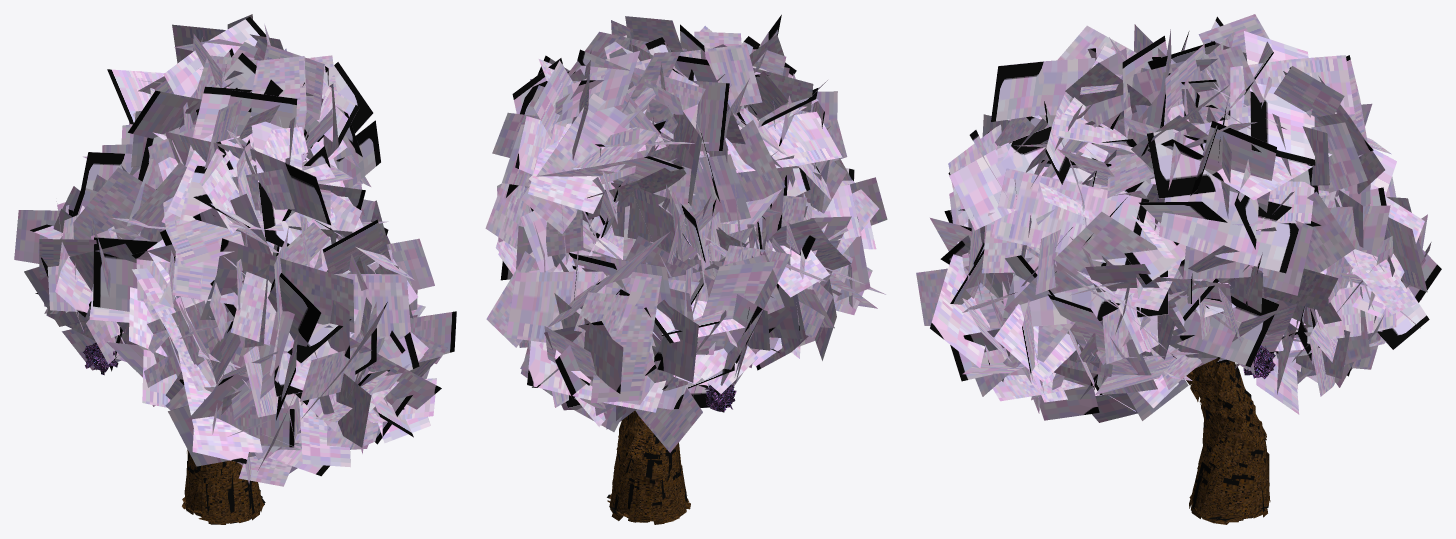
File: FBX-Tree1.fbx
The picture shows the model from 3 angles, left to right: view 1: azimuth 30°, elevation 25°; view 2: azimuth 150°, elevation 25°; view 3: azimuth 270°, elevation 25°; orthographic projection. The views are drawn at different scales.
Parts seen in each view (by area): view 1: TreeLeaves, TreeTrunk, Crystal_Small; view 2: TreeLeaves, TreeTrunk, Crystal_Small; view 3: TreeLeaves, TreeTrunk.
Part boxes in pixels (x1,y1,x2,y2): TreeLeaves: (14,14,456,486); TreeTrunk: (182,449,265,524); Crystal_Small: (82,342,118,375); TreeLeaves: (485,14,887,452); TreeTrunk: (607,410,690,524); Crystal_Small: (705,384,736,412); TreeLeaves: (916,14,1441,422); TreeTrunk: (1186,358,1270,524).
Bounding box in the file's own units: 898 × 1333 × 1307.
Materials: 5 (5 with a texture image).
